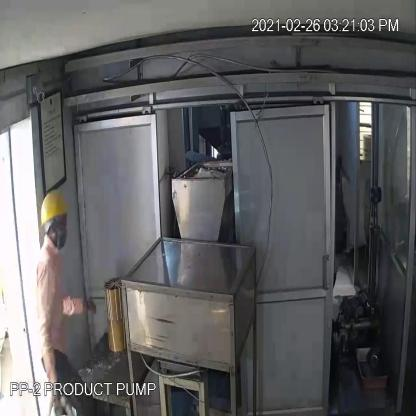helmet: (34, 188, 73, 229)
